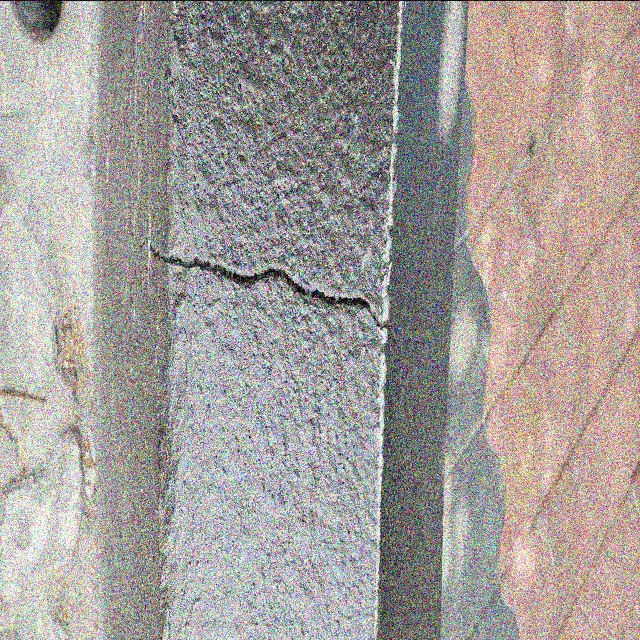SurfaceCrack: (466, 3, 640, 638)
